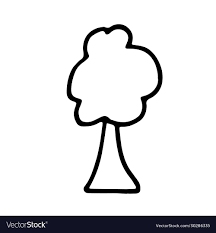tree: (55, 16, 166, 198)
